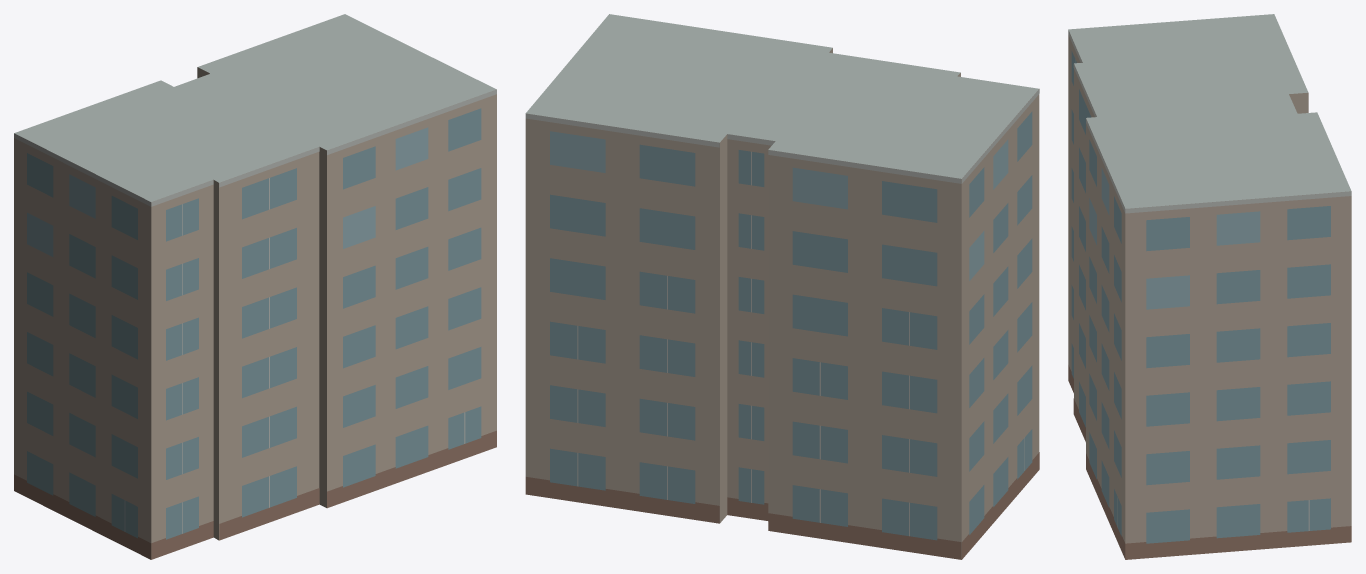
The model's file is survey-upis-32641919.glb.
3 views of the same model, side by side, from view 1: azimuth 30°, elevation 25°; view 2: azimuth 150°, elevation 25°; view 3: azimuth 270°, elevation 25° (orthographic). The views are drawn at different scales.
Visible parts, largest first — view 1: survey-upis-32641919.tmp; view 2: survey-upis-32641919.tmp; view 3: survey-upis-32641919.tmp.
Boxes of the visible parts, x1,y1,x2,y2 form: survey-upis-32641919.tmp: [14, 14, 496, 559]; survey-upis-32641919.tmp: [525, 14, 1039, 559]; survey-upis-32641919.tmp: [1068, 14, 1351, 559].
Size of the model in its own units: 21.79 by 18.3 by 13.4.
